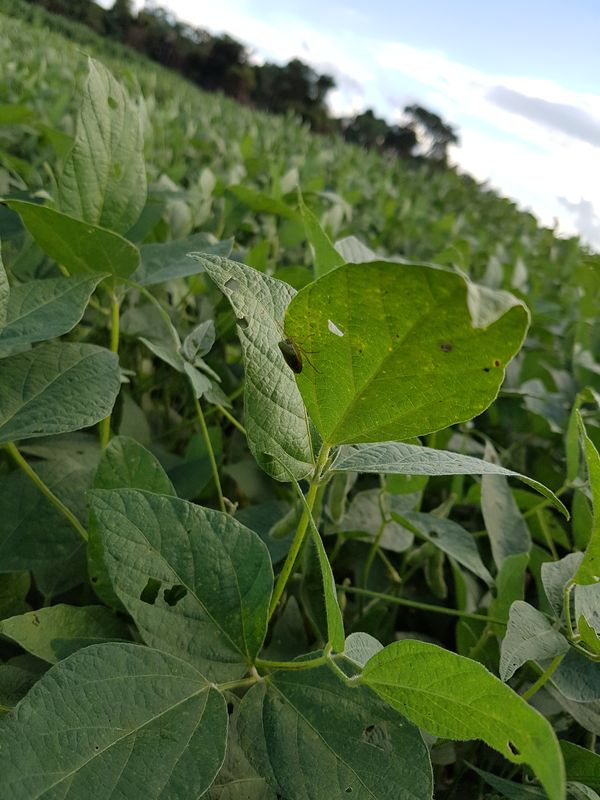Edessa_meditabunda: (269, 319, 325, 380)
